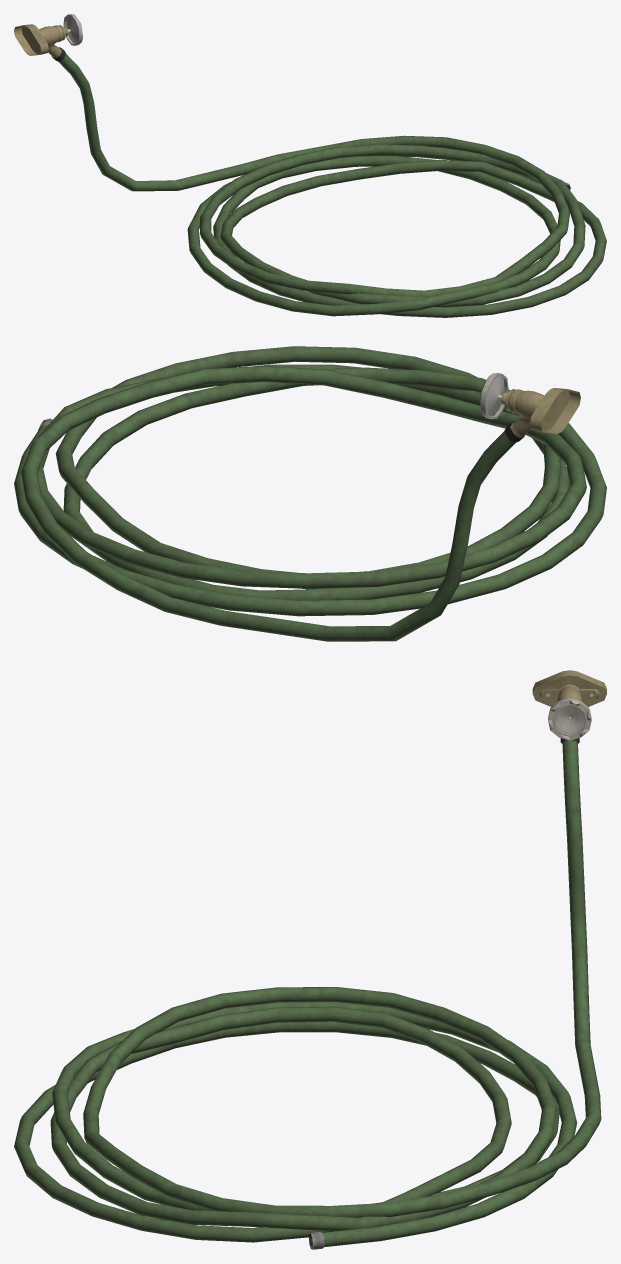
Rendered from Hose.gltf.
3 renders of one model, top to bottom at view 1: azimuth 30°, elevation 25°; view 2: azimuth 150°, elevation 25°; view 3: azimuth 270°, elevation 25°, orthographic. The views are drawn at different scales.
Visible parts, largest first — view 1: Cube__0; view 2: Cube__0; view 3: Cube__0.
Part boxes in pixels (<box>): Cube__0: <box>14,14,606,317</box>; Cube__0: <box>14,346,606,641</box>; Cube__0: <box>14,670,606,1249</box>.
Size of the model in its own units: 13.07 by 5.81 by 10.93.
1 material, 1 textured.
